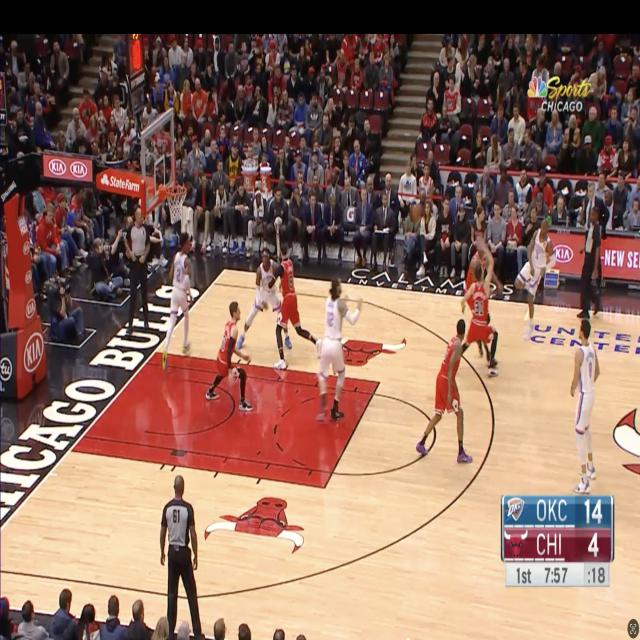no foul: (439, 227, 508, 383), (243, 242, 311, 378)
